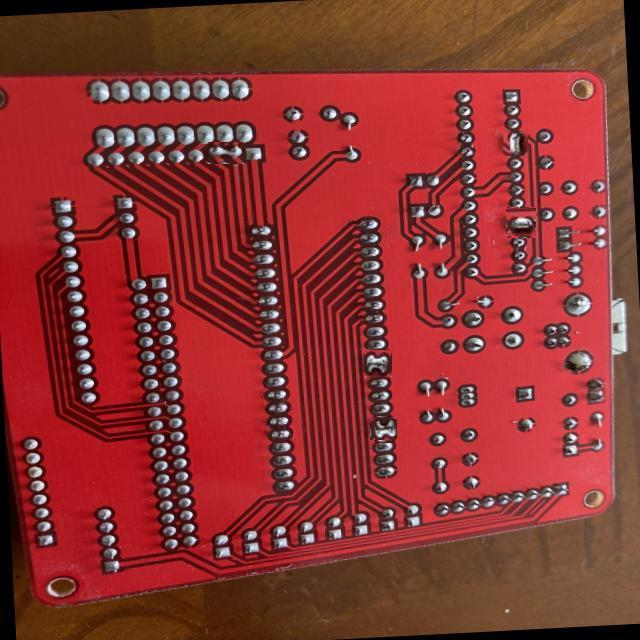damged: (506, 208, 536, 237), (208, 142, 244, 164), (364, 350, 392, 378), (372, 417, 396, 442), (503, 132, 528, 156)
